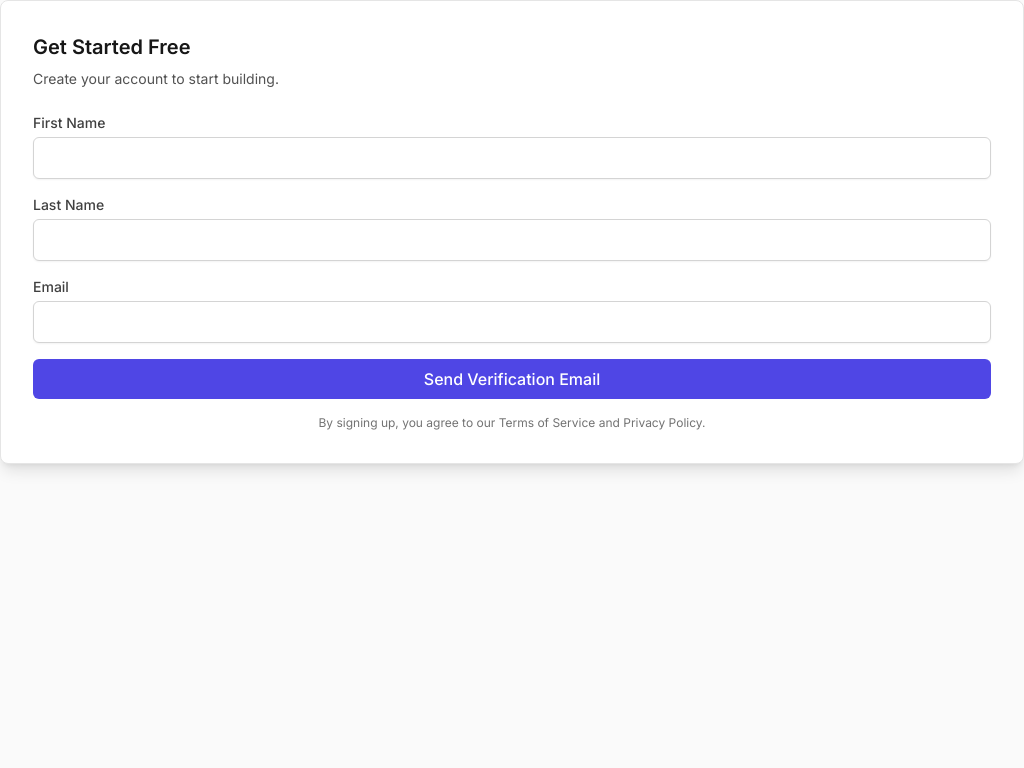
Test: RegistrationFormEmbed › Form Validation › shows error when last name is empty
The image size is (1024, 768).
In the field labelled "First Name": (512,158) [33,137,991,179], type "John"
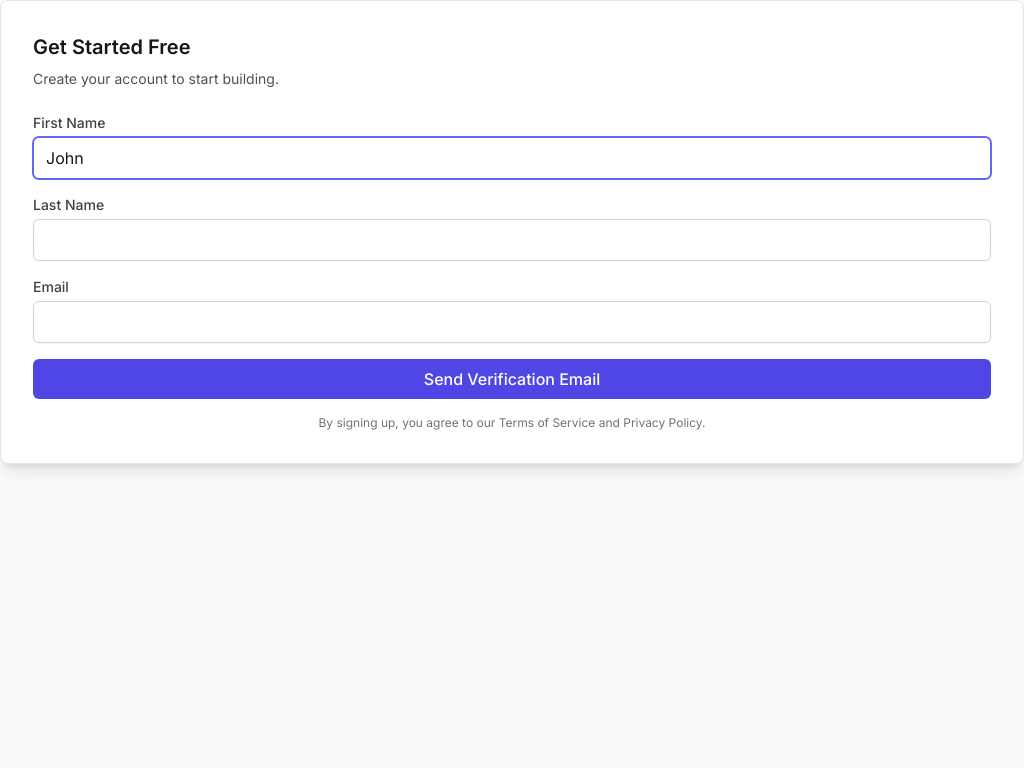
Click the button "Send Verification Email": (512,379) [33,359,991,399]
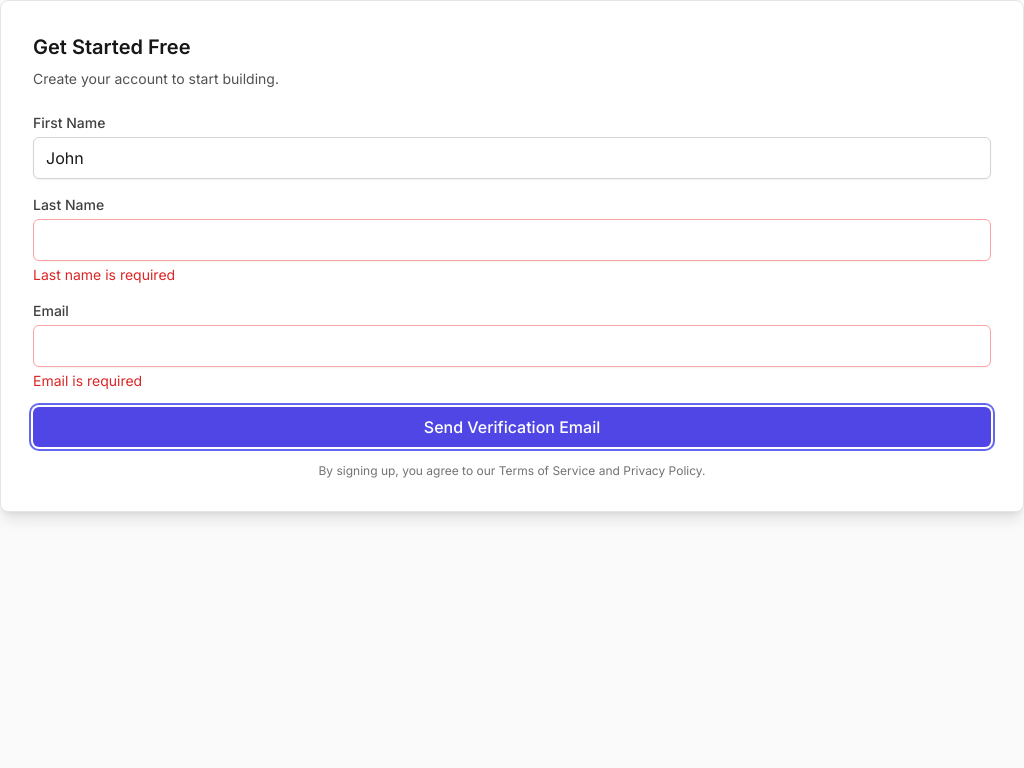
Expected: the text "Last name is required" is shown, [33,266,175,283]
